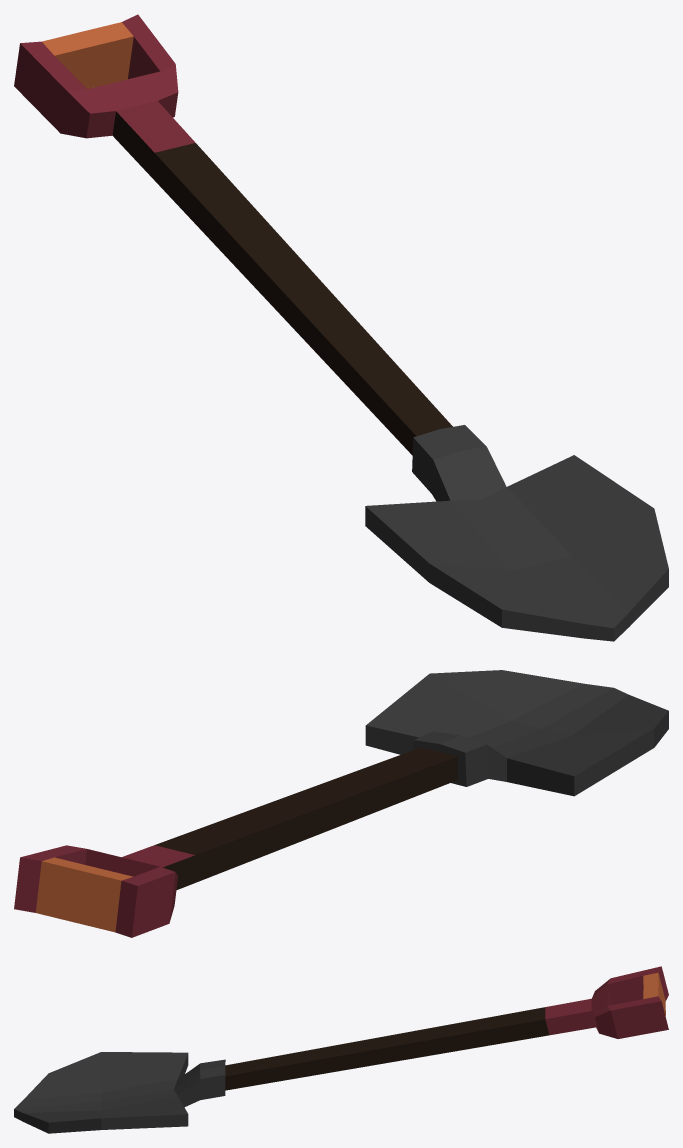
The model's file is pala.fbx.
The picture shows the model from 3 angles, top to bottom: view 1: azimuth 30°, elevation 25°; view 2: azimuth 150°, elevation 25°; view 3: azimuth 270°, elevation 25°; orthographic projection. The views are drawn at different scales.
Visible parts, largest first — view 1: Cube, Cube.001; view 2: Cube, Cube.001; view 3: Cube.001, Cube.
Boxes of the visible parts, x1,y1,x2,y2 form: Cube: (365,425,668,641); Cube.001: (14,14,452,455); Cube: (365,670,668,796); Cube.001: (14,747,457,937); Cube.001: (225,966,668,1090); Cube: (14,1052,225,1133).
Bounding box in the file's own units: 180 × 169 × 751.
